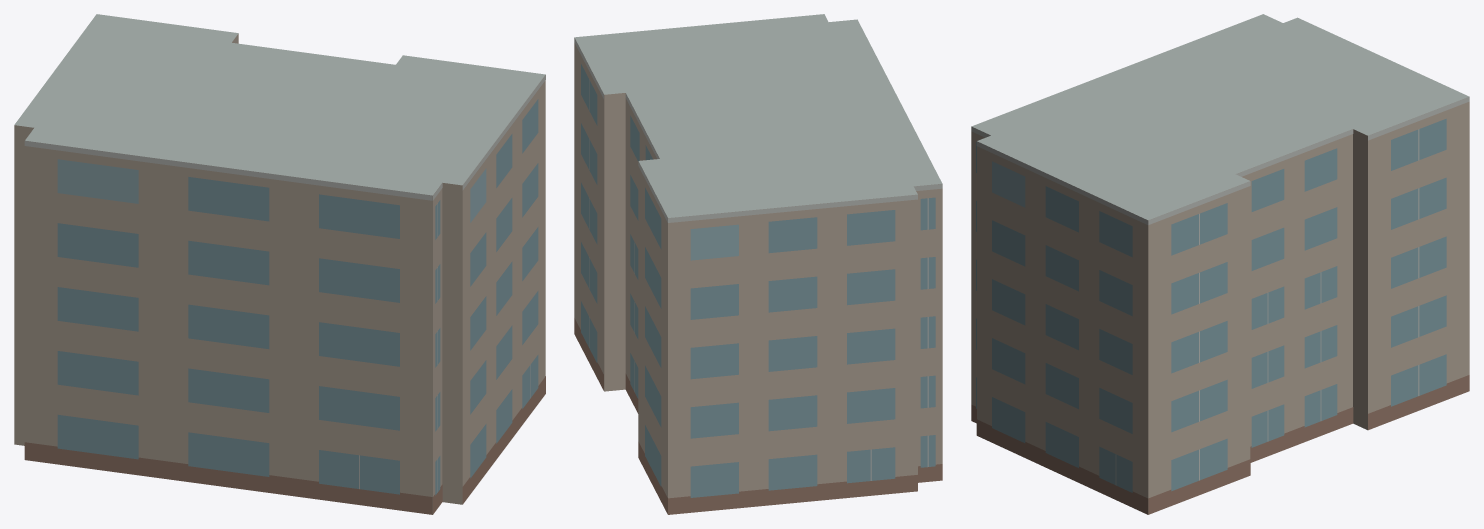
The model's file is survey-upis-32959739.glb.
3 views of the same model, side by side, from view 1: azimuth 30°, elevation 25°; view 2: azimuth 150°, elevation 25°; view 3: azimuth 270°, elevation 25° (orthographic). The views are drawn at different scales.
Parts seen in each view (by area): view 1: survey-upis-32959739.tmp; view 2: survey-upis-32959739.tmp; view 3: survey-upis-32959739.tmp.
Boxes of the visible parts, left/top/right/bottom form: survey-upis-32959739.tmp: left=14, top=14, right=545, bottom=514; survey-upis-32959739.tmp: left=574, top=14, right=942, bottom=514; survey-upis-32959739.tmp: left=971, top=14, right=1469, bottom=514.
Bounding box in the file's own units: 21.94 × 14.6 × 22.38.
